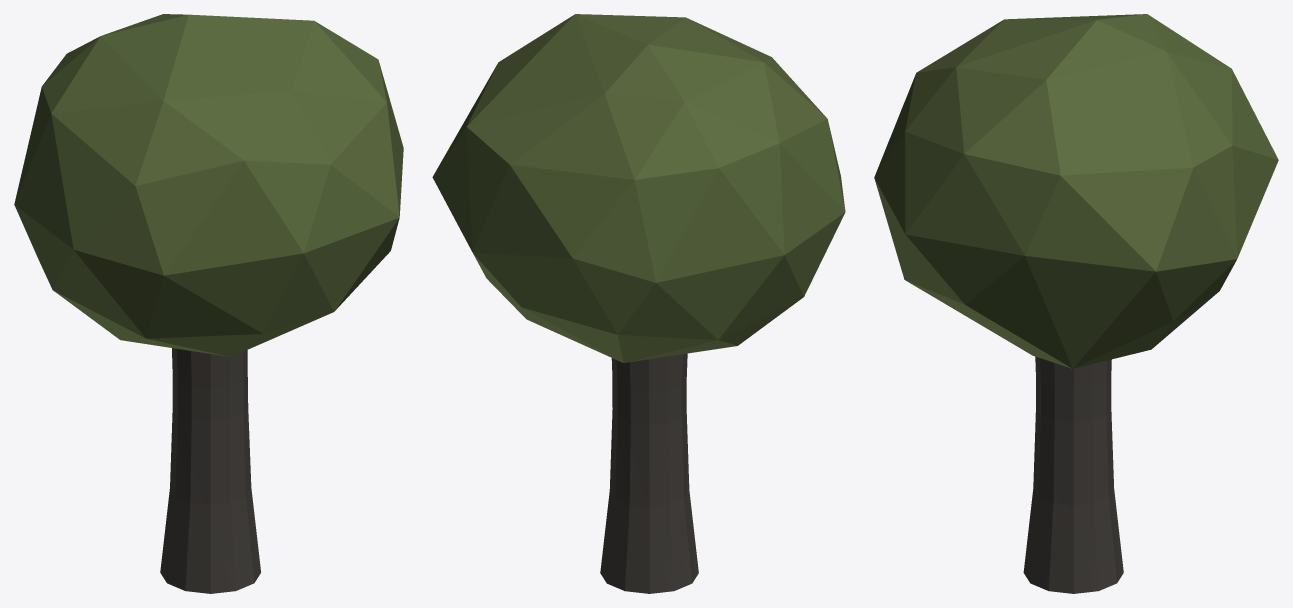
File: round tree 2.fbx
The picture shows the model from 3 angles, left to right: view 1: azimuth 30°, elevation 25°; view 2: azimuth 150°, elevation 25°; view 3: azimuth 270°, elevation 25°; orthographic projection. The views are drawn at different scales.
Parts seen in each view (by area): view 1: Round Tree.002; view 2: Round Tree.002; view 3: Round Tree.002.
Boxes of the visible parts, <box> form: Round Tree.002: <box>14,14,403,593</box>; Round Tree.002: <box>432,14,845,593</box>; Round Tree.002: <box>874,14,1278,593</box>.
Size of the model in its own units: 427 by 645 by 432.
